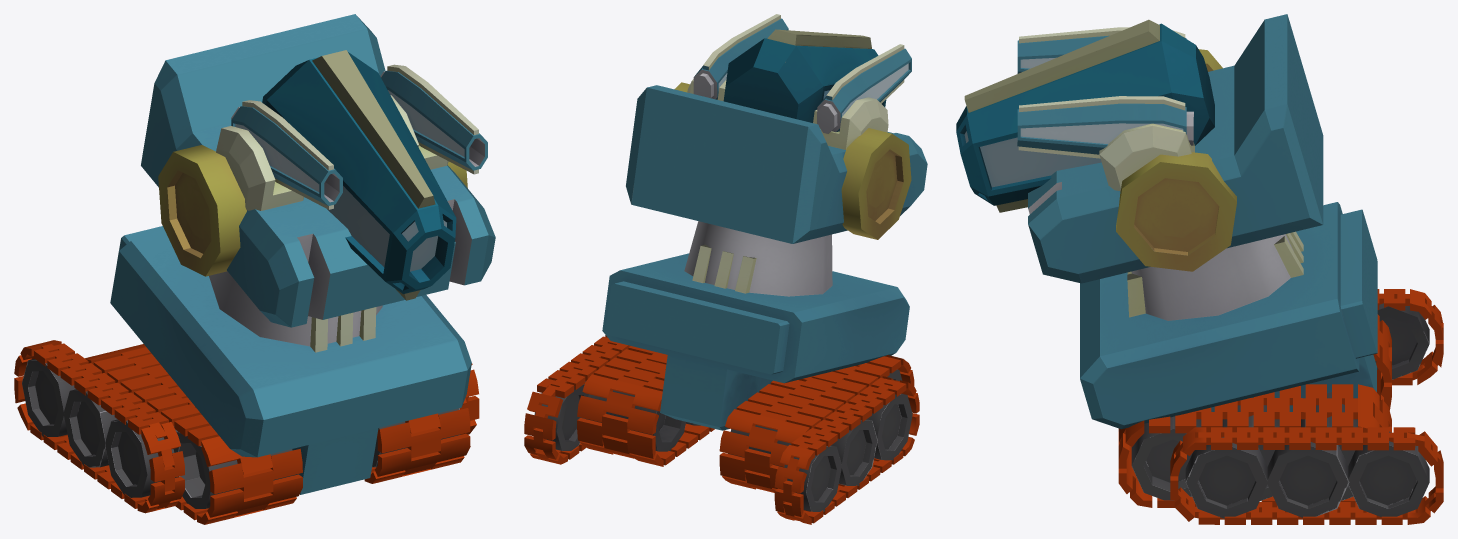
File: player_move_2_upgrade8.obj
3 renders of one model, left to right at view 1: azimuth 30°, elevation 25°; view 2: azimuth 150°, elevation 25°; view 3: azimuth 270°, elevation 25°, orthographic. The views are drawn at different scales.
Parts seen in each view (by area): view 1: Object004, Box038, Object012, Box043, Object013, Box042, Object011, Box044; view 2: Object004, Box038, Box042, Box043, Object012, Object013, Box044, Object011, Object014; view 3: Object004, Object014, Box044, Object012, Box042, Object011, Object013, Box043, Box038.
Part boxes in pixels (x1,y1,x2,y2): Object004: (110,14,495,494); Box038: (85,344,302,524); Object012: (231,64,487,209); Box043: (14,340,184,513); Object013: (22,359,174,497); Box042: (364,398,470,483); Object011: (173,408,460,508); Box044: (459,363,479,434); Object004: (602,29,927,430); Box038: (719,355,914,492); Box042: (577,346,714,466); Box043: (774,376,919,524); Object012: (693,14,911,133); Object013: (781,393,912,511); Box044: (524,335,630,464); Object011: (586,369,902,467); Object014: (534,381,588,450); Object004: (956,14,1377,429); Object014: (1185,431,1429,518); Box044: (1170,427,1443,524); Object012: (1017,27,1193,158); Box042: (1118,384,1391,507); Object011: (1131,361,1375,500); Object013: (1376,303,1429,379); Box043: (1377,289,1443,385); Box038: (1373,314,1391,410).
Size of the model in its own units: 139 by 180 by 187.
4 materials, 2 textured.
